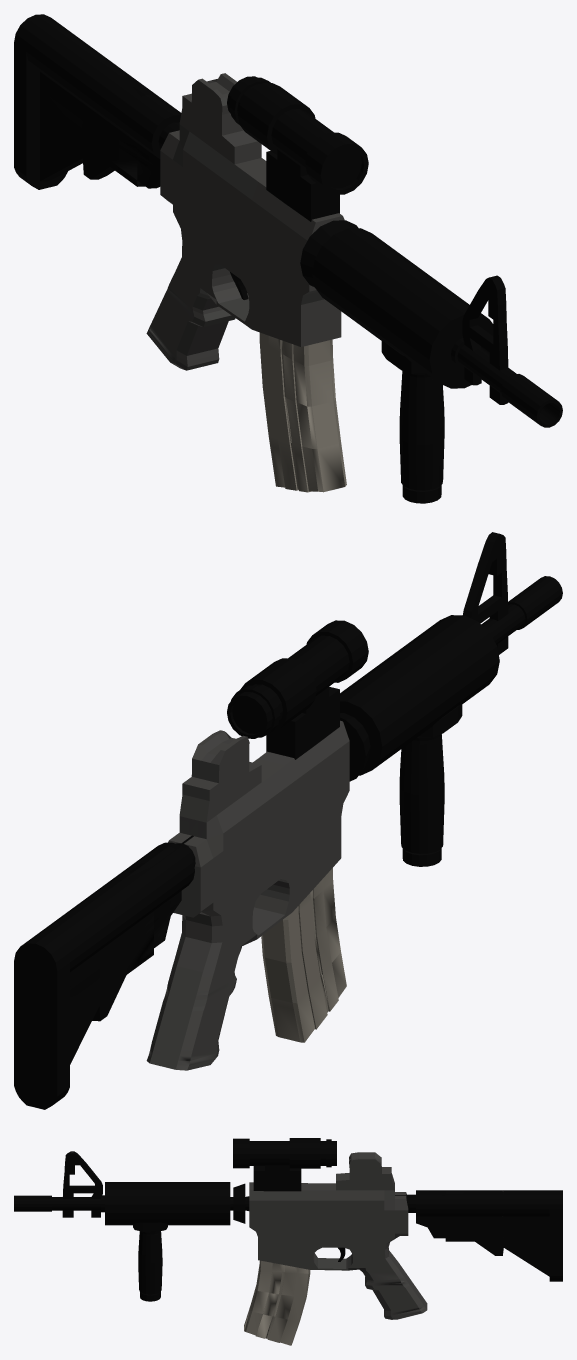
File: M4A1 & Magazine.fbx
The picture shows the model from 3 angles, top to bottom: view 1: azimuth 30°, elevation 25°; view 2: azimuth 150°, elevation 25°; view 3: azimuth 270°, elevation 25°; orthographic projection. The views are drawn at different scales.
Visible parts, largest first — view 1: M4A1, Magazine; view 2: M4A1, Magazine; view 3: M4A1, Magazine.
Part boxes in pixels (x1,y1,x2,y2): M4A1: [14, 14, 562, 503]; Magazine: [259, 332, 346, 492]; M4A1: [14, 532, 562, 1109]; Magazine: [261, 868, 346, 1042]; M4A1: [14, 1138, 562, 1319]; Magazine: [244, 1260, 310, 1345].
Bounding box in the file's own units: 0.0672 × 0.3464 × 0.8505.
